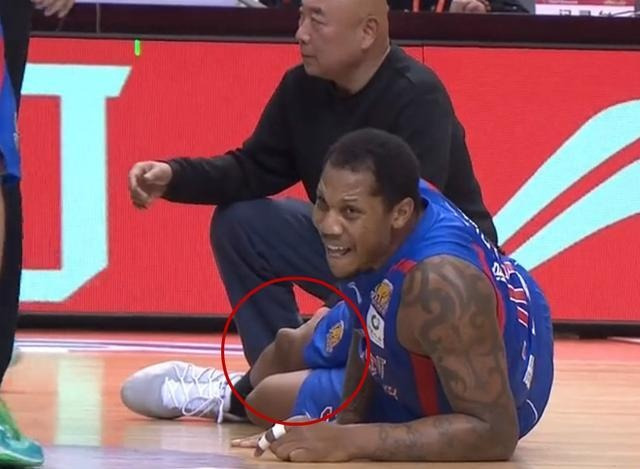falling: (122, 116, 567, 459)
